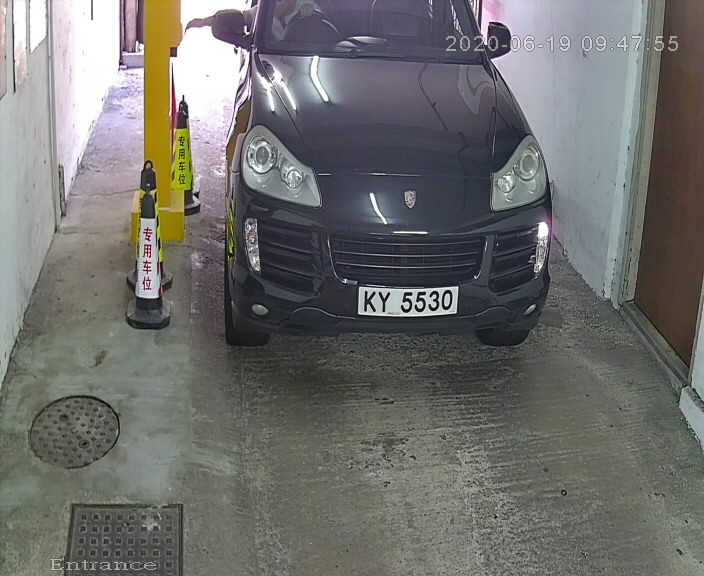privatecar: (207, 3, 567, 366)
